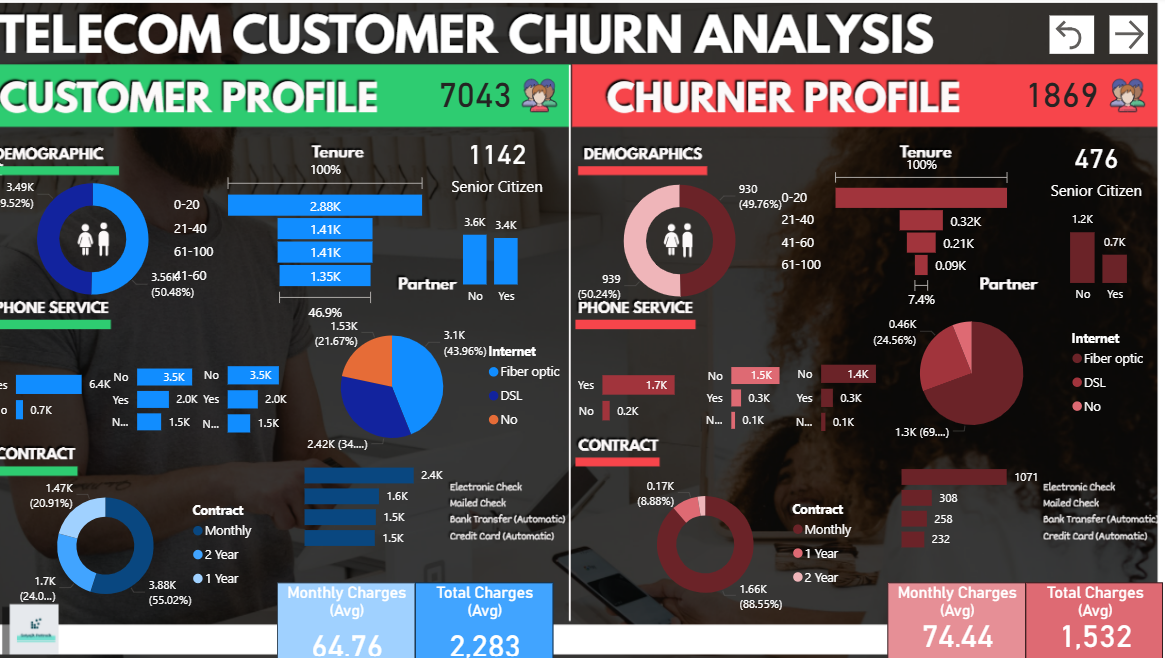

Layout of this report page (visuals, bound fields, positions):
{"tool":"powerbi","page":{"name":"Summary","canvas":[1280,720],"ordinal":1},"visuals":[{"type":"card","fields":{"Values":["CountNonNull(Churned_Data.Churn)"]},"box":[1077.6,84.7,161.6,54.9],"z":0},{"type":"card","fields":{"Values":["CountNonNull(Telco-Churn-Analysis.Churn)"]},"box":[456.5,84.7,161.6,54.9],"z":1000},{"type":"donutChart","fields":{"Category":["Telco-Churn-Analysis.gender"],"Y":["CountNonNull(Telco-Churn-Analysis.gender)"]},"box":[17.3,169.4,229,174.1],"z":2000},{"type":"donutChart","fields":{"Category":["Churned_Data.gender"],"Y":["CountNonNull(Churned_Data.gender)"]},"box":[639.9,172.2,229.6,174.6],"z":3000},{"type":"funnel","fields":{"Category":["Telco-Churn-Analysis.Tenure_Bin"],"Y":["CountNonNull(Telco-Churn-Analysis.Tenure_Bin)"]},"box":[212.9,169.1,278,180.4],"z":4000},{"type":"funnel","fields":{"Category":["Churned_Data.Tenure_Bin"],"Y":["CountNonNull(Churned_Data.Tenure_Bin)"]},"box":[858,161.6,254.1,174.1],"z":5000},{"type":"card","fields":{"Values":["Sum(Telco-Churn-Analysis.SeniorCitizen)"]},"box":[505.1,138,109.8,76.9],"z":6000},{"type":"card","fields":{"Values":["Sum(Churned_Data.SeniorCitizen)"]},"box":[1140.4,141.2,111.4,78.4],"z":7000},{"type":"clusteredColumnChart","fields":{"Category":["Telco-Churn-Analysis.Partner"],"Y":["CountNonNull(Telco-Churn-Analysis.Partner)"]},"box":[489.4,219.6,128.6,116.1],"z":8000},{"type":"clusteredColumnChart","fields":{"Category":["Churned_Data.Partner"],"Y":["CountNonNull(Churned_Data.Partner)"]},"box":[1132.5,214.9,133.3,119.2],"z":9000},{"type":"clusteredBarChart","fields":{"Category":["Telco-Churn-Analysis.PhoneService"],"Y":["CountNonNull(Telco-Churn-Analysis.PhoneService)"]},"box":[17.3,363.9,139.6,114.5],"z":10000},{"type":"clusteredBarChart","fields":{"Category":["Churned_Data.PhoneService"],"Y":["CountNonNull(Churned_Data.PhoneService)"]},"box":[640,363.9,141.2,116.1],"z":11000},{"type":"clusteredBarChart","fields":{"Category":["Telco-Churn-Analysis.OnlineSecurity"],"Y":["CountNonNull(Telco-Churn-Analysis.OnlineSecurity)"]},"box":[131.8,371.8,134.9,103.5],"z":12000},{"type":"clusteredBarChart","fields":{"Category":["Churned_Data.OnlineSecurity"],"Y":["CountNonNull(Churned_Data.OnlineSecurity)"]},"box":[765.5,370.2,125.5,103.5],"z":13000},{"type":"clusteredBarChart","fields":{"Category":["Telco-Churn-Analysis.TechSupport"],"Y":["CountNonNull(Telco-Churn-Analysis.TechSupport)"]},"box":[229,368.6,133.3,109.8],"z":14000},{"type":"clusteredBarChart","fields":{"Category":["Churned_Data.TechSupport"],"Y":["CountNonNull(Churned_Data.TechSupport)"]},"box":[858,367.1,136.5,109.8],"z":15000},{"type":"pieChart","fields":{"Y":["CountNonNull(Telco-Churn-Analysis.InternetService)"],"Category":["Telco-Churn-Analysis.InternetService"]},"box":[342,334.1,299.6,160],"z":16000},{"type":"pieChart","fields":{"Category":["Churned_Data.InternetService"],"Y":["CountNonNull(Churned_Data.InternetService)"]},"box":[952.2,320,307.5,160],"z":17000},{"type":"donutChart","fields":{"Category":["Telco-Churn-Analysis.Contract"],"Y":["CountNonNull(Telco-Churn-Analysis.Contract)"]},"box":[47.1,505.1,268.2,153.7],"z":18000},{"type":"donutChart","fields":{"Category":["Churned_Data.Contract"],"Y":["CountNonNull(Churned_Data.Contract)"]},"box":[683.8,503.5,268,154.1],"z":19000},{"type":"clusteredBarChart","fields":{"Category":["Telco-Churn-Analysis.PaymentMethod"],"Y":["CountNonNull(Telco-Churn-Analysis.PaymentMethod)"]},"box":[351.4,486.3,161.6,102],"z":20000},{"type":"clusteredBarChart","fields":{"Category":["Churned_Data.PaymentMethod"],"Y":["CountNonNull(Churned_Data.PaymentMethod)"]},"box":[985.1,487.8,160,102],"z":21000},{"type":"card","title":"Monthly Charges (Avg)","fields":{"Values":["Avg(Telco-Churn-Analysis.MonthlyCharges)"]},"box":[328.1,622.5,146.5,88.9],"z":22000},{"type":"card","title":"Monthly Charges (Avg)","fields":{"Values":["Avg(Churned_Data.MonthlyCharges)"]},"box":[974.4,622.5,146.5,88.9],"z":23000},{"type":"card","title":"Total Charges (Avg)","fields":{"Values":["Avg(Churned_Data.TotalCharges)"]},"box":[1120.9,622.5,146.5,88.9],"z":24000},{"type":"card","title":"Total Charges (Avg)","fields":{"Values":["Avg(Telco-Churn-Analysis.TotalCharges)"]},"box":[474.7,622.5,146.5,88.9],"z":25000},{"type":"actionButton","box":[1211,20.4,40.8,40.8],"z":26000},{"type":"actionButton","box":[1146.7,20.4,47.1,40.8],"z":27000}]}

Visuals, with their boxes in screenshot pixels (x1, y1, x2, y2), scaled from the page's 1280x720 canvas onto the 1165x658 screenshot:
card - CountNonNull(Churned_Data.Churn): <region>981, 77, 1128, 128</region>
card - CountNonNull(Telco-Churn-Analysis.Churn): <region>415, 77, 563, 128</region>
donutChart - Telco-Churn-Analysis.gender x CountNonNull(Telco-Churn-Analysis.gender): <region>16, 155, 224, 314</region>
donutChart - Churned_Data.gender x CountNonNull(Churned_Data.gender): <region>582, 157, 791, 317</region>
funnel - Telco-Churn-Analysis.Tenure_Bin x CountNonNull(Telco-Churn-Analysis.Tenure_Bin): <region>194, 155, 447, 319</region>
funnel - Churned_Data.Tenure_Bin x CountNonNull(Churned_Data.Tenure_Bin): <region>781, 148, 1012, 307</region>
card - Sum(Telco-Churn-Analysis.SeniorCitizen): <region>460, 126, 560, 196</region>
card - Sum(Churned_Data.SeniorCitizen): <region>1038, 129, 1139, 201</region>
clusteredColumnChart - Telco-Churn-Analysis.Partner x CountNonNull(Telco-Churn-Analysis.Partner): <region>445, 201, 562, 307</region>
clusteredColumnChart - Churned_Data.Partner x CountNonNull(Churned_Data.Partner): <region>1031, 196, 1152, 305</region>
clusteredBarChart - Telco-Churn-Analysis.PhoneService x CountNonNull(Telco-Churn-Analysis.PhoneService): <region>16, 333, 143, 437</region>
clusteredBarChart - Churned_Data.PhoneService x CountNonNull(Churned_Data.PhoneService): <region>582, 333, 711, 439</region>
clusteredBarChart - Telco-Churn-Analysis.OnlineSecurity x CountNonNull(Telco-Churn-Analysis.OnlineSecurity): <region>120, 340, 243, 434</region>
clusteredBarChart - Churned_Data.OnlineSecurity x CountNonNull(Churned_Data.OnlineSecurity): <region>697, 338, 811, 433</region>
clusteredBarChart - Telco-Churn-Analysis.TechSupport x CountNonNull(Telco-Churn-Analysis.TechSupport): <region>208, 337, 330, 437</region>
clusteredBarChart - Churned_Data.TechSupport x CountNonNull(Churned_Data.TechSupport): <region>781, 335, 905, 436</region>
pieChart - CountNonNull(Telco-Churn-Analysis.InternetService) x Telco-Churn-Analysis.InternetService: <region>311, 305, 584, 452</region>
pieChart - Churned_Data.InternetService x CountNonNull(Churned_Data.InternetService): <region>867, 292, 1147, 439</region>
donutChart - Telco-Churn-Analysis.Contract x CountNonNull(Telco-Churn-Analysis.Contract): <region>43, 462, 287, 602</region>
donutChart - Churned_Data.Contract x CountNonNull(Churned_Data.Contract): <region>622, 460, 866, 601</region>
clusteredBarChart - Telco-Churn-Analysis.PaymentMethod x CountNonNull(Telco-Churn-Analysis.PaymentMethod): <region>320, 444, 467, 538</region>
clusteredBarChart - Churned_Data.PaymentMethod x CountNonNull(Churned_Data.PaymentMethod): <region>897, 446, 1042, 539</region>
"Monthly Charges (Avg)" card: <region>299, 569, 432, 650</region>
"Monthly Charges (Avg)" card: <region>887, 569, 1020, 650</region>
"Total Charges (Avg)" card: <region>1020, 569, 1154, 650</region>
"Total Charges (Avg)" card: <region>432, 569, 565, 650</region>
actionButton: <region>1102, 19, 1139, 56</region>
actionButton: <region>1044, 19, 1087, 56</region>
